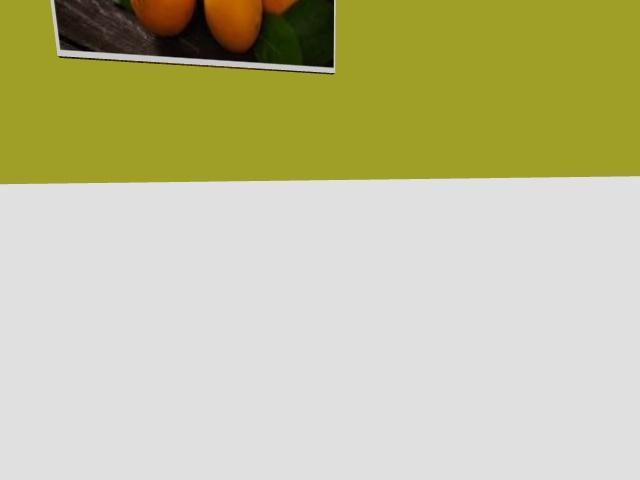orange: (204, 0, 261, 52), (131, 0, 195, 36), (262, 0, 297, 14)
